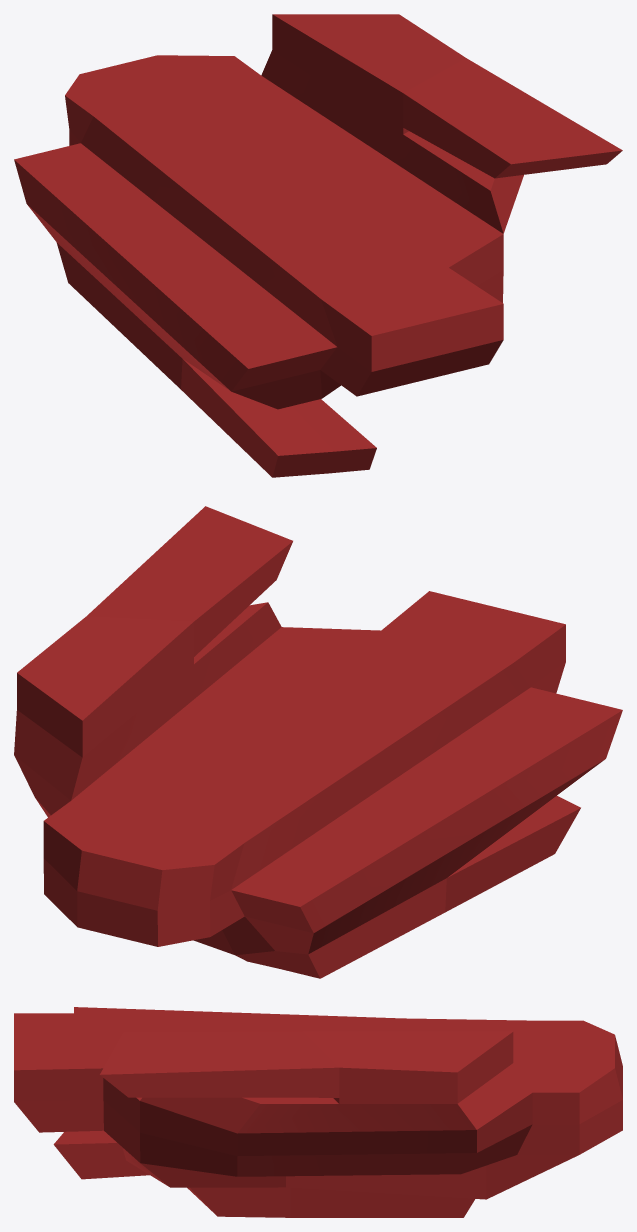
File: platform rework 1.fbx
3 renders of one model, top to bottom at view 1: azimuth 30°, elevation 25°; view 2: azimuth 150°, elevation 25°; view 3: azimuth 270°, elevation 25°, orthographic. The views are drawn at different scales.
Parts seen in each view (by area): view 1: Platform_Rework_1_notwalk; view 2: Platform_Rework_1_notwalk; view 3: Platform_Rework_1_notwalk.
Boxes of the visible parts, x1=… form: Platform_Rework_1_notwalk: x1=14, y1=14, x2=622, y2=477; Platform_Rework_1_notwalk: x1=14, y1=506, x2=622, y2=978; Platform_Rework_1_notwalk: x1=14, y1=1007, x2=622, y2=1217.
Bounding box in the file's own units: 471 × 287 × 724.
